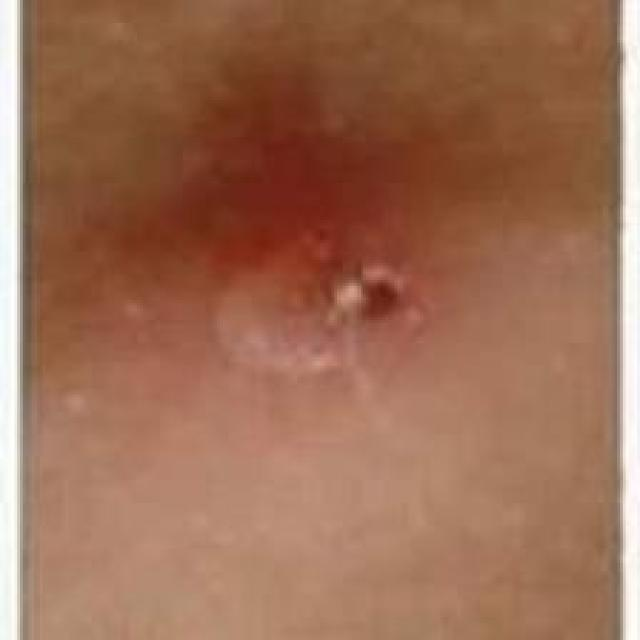others: (23, 32, 598, 640)
